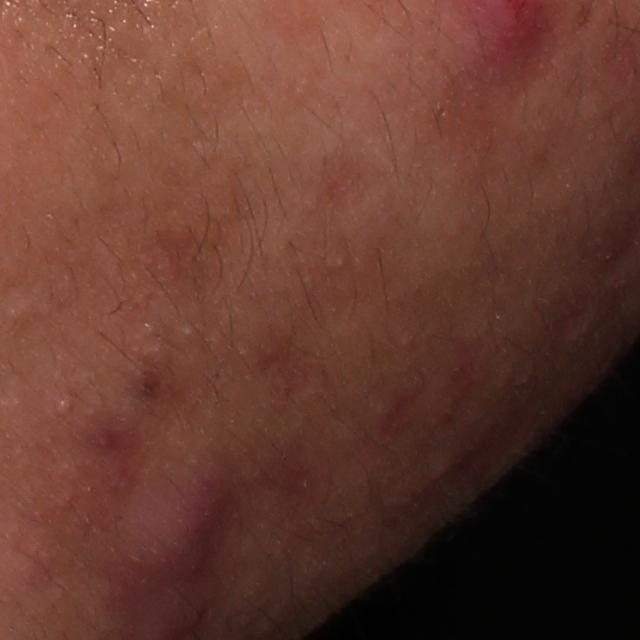comedo: (48, 394, 75, 421)
